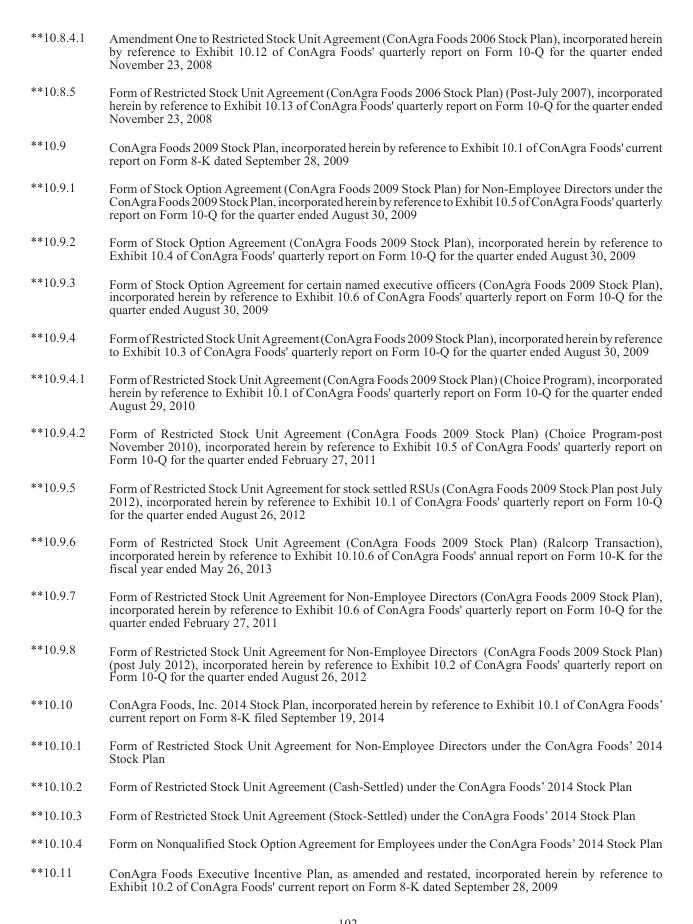table: (29, 29, 662, 892)
table column: (96, 29, 662, 892), (29, 29, 96, 892)
table row: (29, 172, 662, 227), (29, 526, 662, 581), (29, 77, 662, 131), (29, 268, 662, 322), (29, 364, 662, 418), (29, 418, 662, 472), (29, 472, 662, 526), (29, 581, 662, 635), (29, 635, 662, 689), (29, 29, 662, 77), (29, 322, 662, 364), (29, 131, 662, 172), (29, 227, 662, 268), (29, 689, 662, 730), (29, 730, 662, 771), (29, 857, 662, 892), (29, 771, 662, 800), (29, 828, 662, 857), (29, 800, 662, 828)
